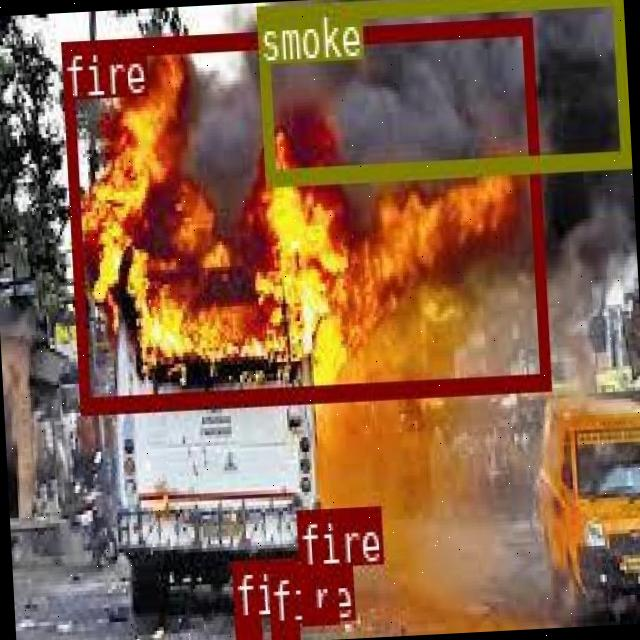fire: (59, 14, 548, 410), (298, 566, 338, 624), (234, 618, 258, 638), (268, 623, 296, 636)
smoke: (255, 0, 628, 181)
